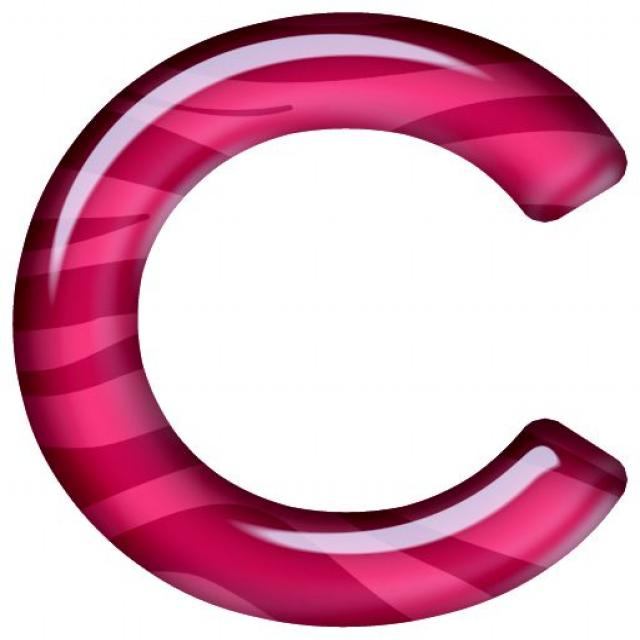C: (5, 9, 640, 636)
